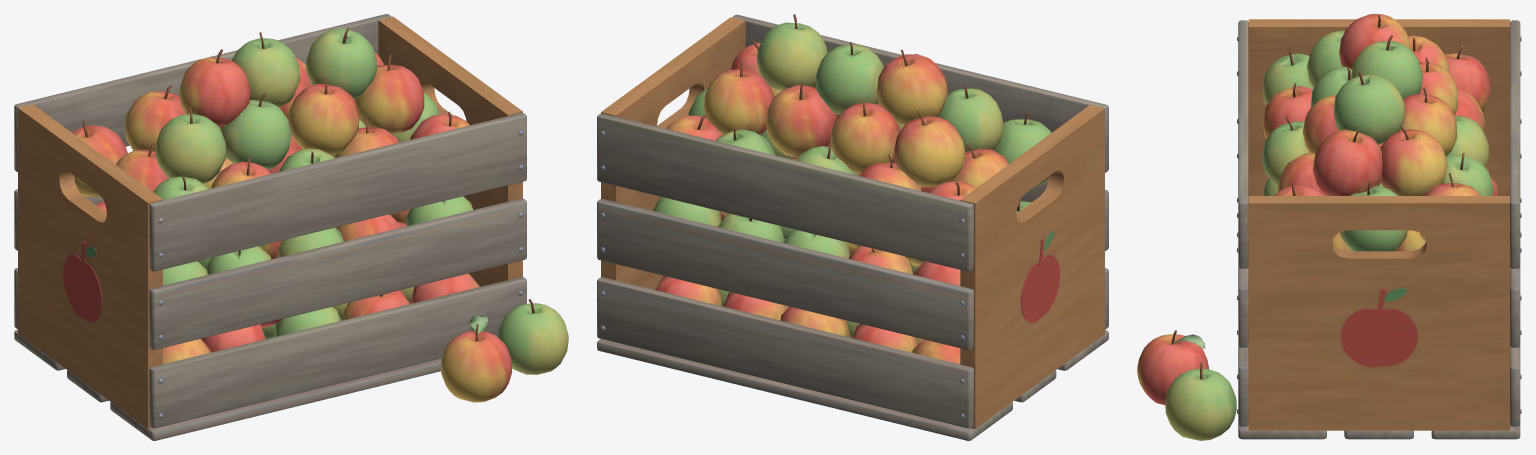
Rendered from apple-crate.glb.
3 renders of one model, left to right at view 1: azimuth 30°, elevation 25°; view 2: azimuth 150°, elevation 25°; view 3: azimuth 270°, elevation 25°, orthographic.
Parts seen in each view (by area): view 1: apple-crate_body; view 2: apple-crate_body; view 3: apple-crate_body.
Part boxes in pixels (x1,y1,x2,y2): apple-crate_body: [14, 14, 568, 440]; apple-crate_body: [597, 14, 1108, 440]; apple-crate_body: [1137, 14, 1521, 440].
Size of the model in its own units: 0.5248 by 0.3941 by 0.4419.
1 material, 1 textured.
